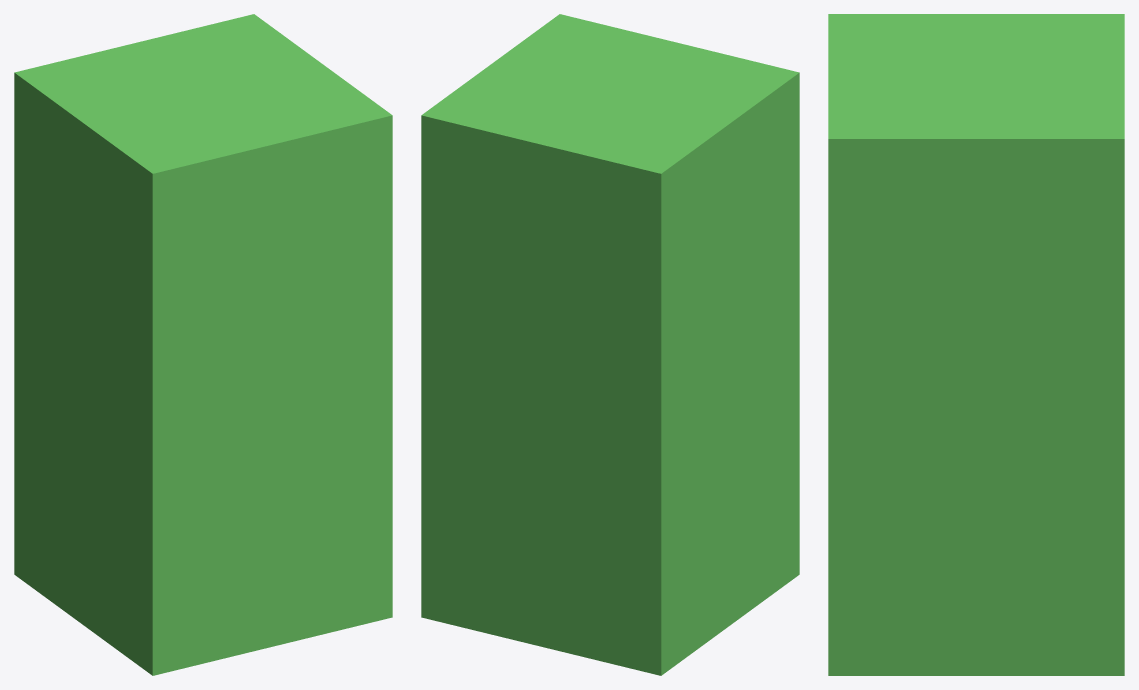
File: PastelGreenThickEdge.fbx
3 renders of one model, left to right at view 1: azimuth 30°, elevation 25°; view 2: azimuth 150°, elevation 25°; view 3: azimuth 270°, elevation 25°, orthographic. The views are drawn at different scales.
Parts seen in each view (by area): view 1: LEDTHICK.001; view 2: LEDTHICK.001; view 3: LEDTHICK.001.
Part boxes in pixels (left/top/right/bottom): LEDTHICK.001: left=14, top=14, right=392, bottom=675; LEDTHICK.001: left=421, top=14, right=799, bottom=675; LEDTHICK.001: left=828, top=14, right=1124, bottom=675.
Bounding box in the file's own units: 100 × 200 × 100.
